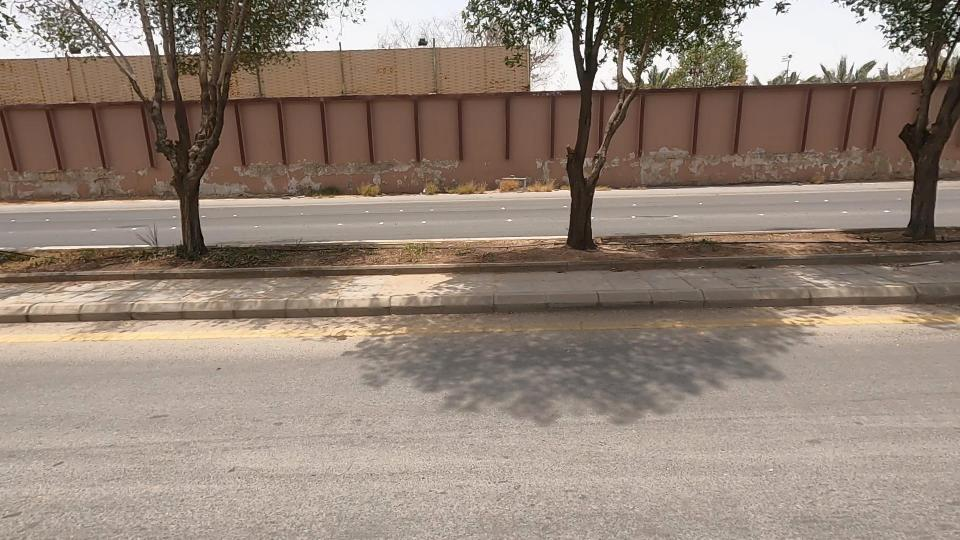CLUTTER_SIDEWALK: (209, 215, 543, 285), (613, 212, 889, 271), (0, 227, 179, 287)
